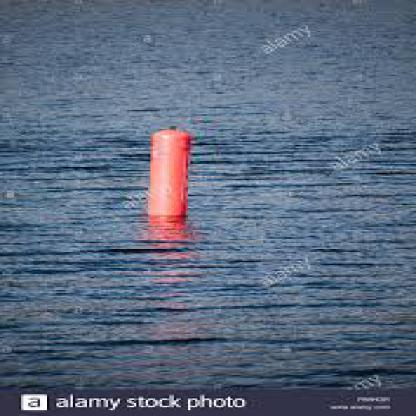buoy: (118, 115, 212, 226)
